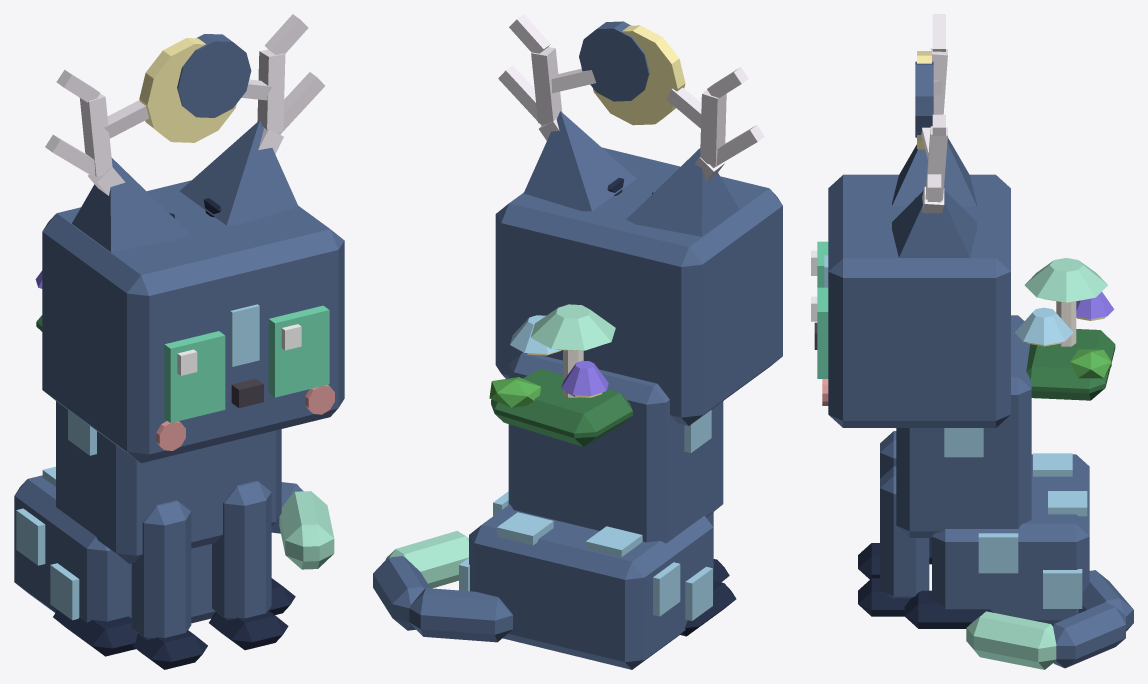
Rendered from CleanACat_Cat_Moonstag_Sit_Lite.fbx.
3 views of the same model, side by side, from view 1: azimuth 30°, elevation 25°; view 2: azimuth 150°, elevation 25°; view 3: azimuth 270°, elevation 25° (orthographic). The views are drawn at different scales.
Parts seen in each view (by area): view 1: CleanACat_Cat_Moonstag_Sit_Lite_Head, CleanACat_Cat_Moonstag_Sit_Lite_Body, CleanACat_Cat_Moonstag_Sit_Lite_Prop, CleanACat_Cat_Moonstag_Sit_Lite_LegF2, CleanACat_Cat_Moonstag_Sit_Lite_LegF1, CleanACat_Cat_Moonstag_Sit_Lite_EarL, CleanACat_Cat_Moonstag_Sit_Lite_EarR, CleanACat_Cat_Moonstag_Sit_Lite_Eye1, CleanACat_Cat_Moonstag_Sit_Lite_Eye2, CleanACat_Cat_Moonstag_Sit_Lite_Tail; view 2: CleanACat_Cat_Moonstag_Sit_Lite_Body, CleanACat_Cat_Moonstag_Sit_Lite_Head, CleanACat_Cat_Moonstag_Sit_Lite_Prop, CleanACat_Cat_Moonstag_Sit_Lite_Prop2, CleanACat_Cat_Moonstag_Sit_Lite_Tail, CleanACat_Cat_Moonstag_Sit_Lite_EarL, CleanACat_Cat_Moonstag_Sit_Lite_EarR; view 3: CleanACat_Cat_Moonstag_Sit_Lite_Head, CleanACat_Cat_Moonstag_Sit_Lite_Body, CleanACat_Cat_Moonstag_Sit_Lite_Prop2, CleanACat_Cat_Moonstag_Sit_Lite_Tail, CleanACat_Cat_Moonstag_Sit_Lite_LegF1, CleanACat_Cat_Moonstag_Sit_Lite_Prop, CleanACat_Cat_Moonstag_Sit_Lite_EarL, CleanACat_Cat_Moonstag_Sit_Lite_EarR, CleanACat_Cat_Moonstag_Sit_Lite_LegF2, CleanACat_Cat_Moonstag_Sit_Lite_Eye1, CleanACat_Cat_Moonstag_Sit_Lite_Eye2.
Boxes of the visible parts, left/top/right/bottom form: CleanACat_Cat_Moonstag_Sit_Lite_Head: left=42, top=180, right=344, bottom=463; CleanACat_Cat_Moonstag_Sit_Lite_Body: left=14, top=401, right=295, bottom=656; CleanACat_Cat_Moonstag_Sit_Lite_Prop: left=45, top=14, right=324, bottom=218; CleanACat_Cat_Moonstag_Sit_Lite_LegF2: left=131, top=500, right=207, bottom=669; CleanACat_Cat_Moonstag_Sit_Lite_LegF1: left=209, top=480, right=288, bottom=650; CleanACat_Cat_Moonstag_Sit_Lite_EarL: left=180, top=120, right=298, bottom=225; CleanACat_Cat_Moonstag_Sit_Lite_EarR: left=72, top=158, right=190, bottom=252; CleanACat_Cat_Moonstag_Sit_Lite_Eye1: left=268, top=305, right=329, bottom=397; CleanACat_Cat_Moonstag_Sit_Lite_Eye2: left=164, top=331, right=225, bottom=422; CleanACat_Cat_Moonstag_Sit_Lite_Tail: left=271, top=482, right=334, bottom=569; CleanACat_Cat_Moonstag_Sit_Lite_Body: left=459, top=352, right=736, bottom=669; CleanACat_Cat_Moonstag_Sit_Lite_Head: left=495, top=147, right=782, bottom=425; CleanACat_Cat_Moonstag_Sit_Lite_Prop: left=498, top=14, right=764, bottom=195; CleanACat_Cat_Moonstag_Sit_Lite_Prop2: left=489, top=304, right=632, bottom=446; CleanACat_Cat_Moonstag_Sit_Lite_Tail: left=373, top=531, right=512, bottom=642; CleanACat_Cat_Moonstag_Sit_Lite_EarL: left=524, top=111, right=636, bottom=211; CleanACat_Cat_Moonstag_Sit_Lite_EarR: left=626, top=148, right=738, bottom=236; CleanACat_Cat_Moonstag_Sit_Lite_Head: left=814, top=174, right=1010, bottom=427; CleanACat_Cat_Moonstag_Sit_Lite_Body: left=896, top=315, right=1089, bottom=628; CleanACat_Cat_Moonstag_Sit_Lite_Prop2: left=1014, top=258, right=1115, bottom=400; CleanACat_Cat_Moonstag_Sit_Lite_Tail: left=966, top=570, right=1133, bottom=669; CleanACat_Cat_Moonstag_Sit_Lite_LegF1: left=858, top=466, right=929, bottom=616; CleanACat_Cat_Moonstag_Sit_Lite_Prop: left=915, top=14, right=947, bottom=213; CleanACat_Cat_Moonstag_Sit_Lite_EarL: left=892, top=190, right=976, bottom=257; CleanACat_Cat_Moonstag_Sit_Lite_EarR: left=892, top=114, right=976, bottom=206; CleanACat_Cat_Moonstag_Sit_Lite_LegF2: left=858, top=431, right=896, bottom=579; CleanACat_Cat_Moonstag_Sit_Lite_Eye1: left=811, top=287, right=828, bottom=378; CleanACat_Cat_Moonstag_Sit_Lite_Eye2: left=811, top=241, right=828, bottom=287.
Bounding box in the file's own units: 1.35 × 2.28 × 1.24.
1 material, 1 textured.
